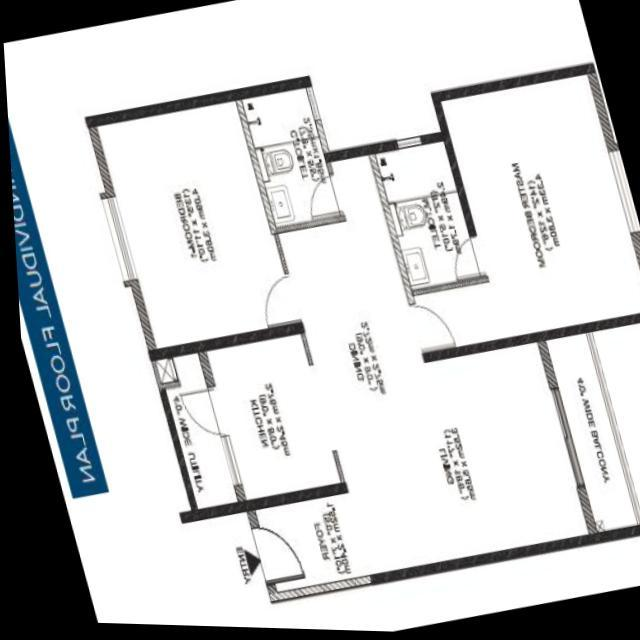Balcony-Sitout: (542, 326, 640, 541)
Bedroom: (86, 95, 301, 362)
Bedroom with Toilet: (434, 64, 640, 343)
Enterance-Foyer: (215, 486, 364, 610)
Kitchen: (145, 326, 336, 516)
Living: (415, 333, 593, 564)
Toilet: (363, 132, 478, 290), (241, 82, 344, 232)
